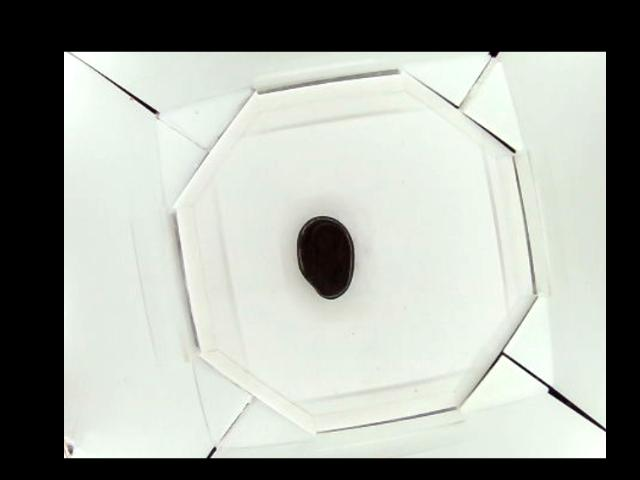Pebble: (296, 215, 355, 299)
